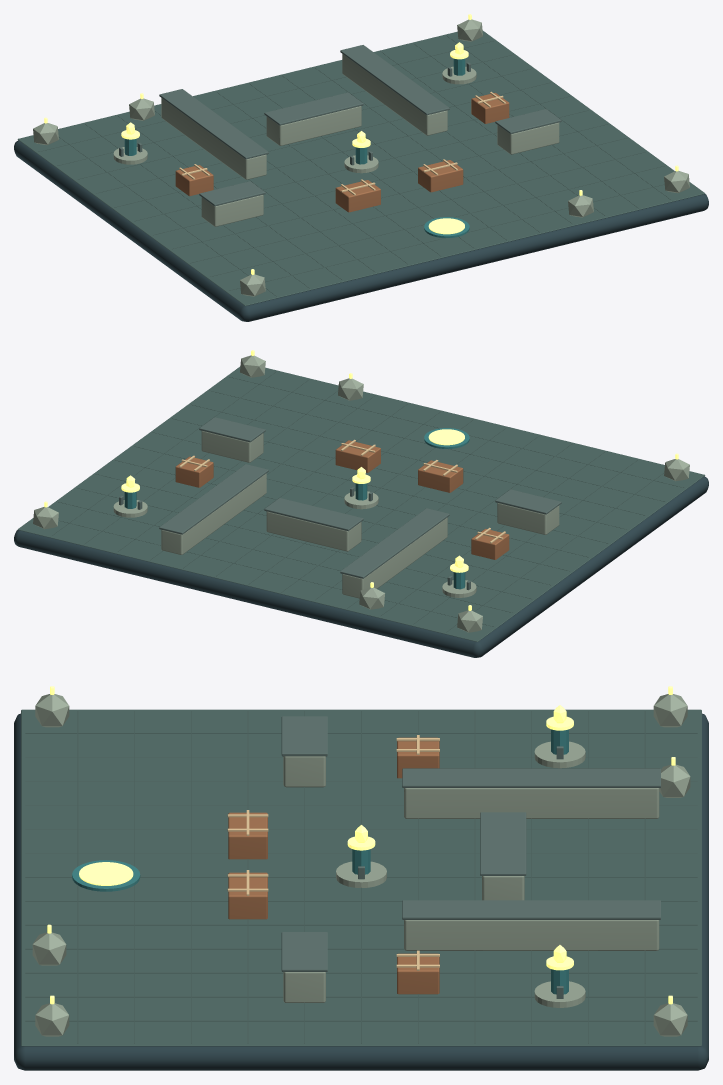
File: arena-quarry.glb
3 views of the same model, one above another, from view 1: azimuth 30°, elevation 25°; view 2: azimuth 150°, elevation 25°; view 3: azimuth 270°, elevation 25° (orthographic). The views are drawn at different scales.
Parts seen in each view (by area): view 1: Tactical floor, Terrain island, Part__Concrete quarry, Part__Railings.002, Part__Grid quarry, Crate body, Crate body.001, Crate body.002, Crate body.003, ExtractionGlow; view 2: Tactical floor, Terrain island, Part__Concrete quarry, Part__Railings.002, Part__Grid quarry, Crate body, Crate body.001, Crate body.003, Crate body.002, ExtractionGlow; view 3: Tactical floor, Part__Concrete quarry, Terrain island, Part__Railings.002, Part__Grid quarry, Crate body, Crate body.001, Crate body.003, Crate body.002, ExtractionGlow, Beacon base, Beacon base.001 (+2 smaller).
Part boxes in pixels (x1,y1,x2,y2): Tactical floor: (17,30,705,305); Terrain island: (14,140,708,321); Part__Concrete quarry: (33,19,689,296); Part__Railings.002: (159,45,561,206); Part__Grid quarry: (39,35,670,296); Crate body: (335,180,380,212); Crate body.001: (418,160,463,192); Crate body.002: (175,165,213,196); Crate body.003: (471,93,509,123); ExtractionGlow: (428,218,464,234); Tactical floor: (17,366,705,641); Terrain island: (14,476,708,657); Part__Concrete quarry: (33,355,689,632); Part__Railings.002: (159,417,561,578); Part__Grid quarry: (52,371,683,632); Crate body: (418,460,463,492); Crate body.001: (335,440,380,472); Crate body.003: (175,456,213,487); Crate body.002: (471,529,509,559); ExtractionGlow: (428,429,464,445); Tactical floor: (21,709,701,1046); Part__Concrete quarry: (32,694,690,1036); Terrain island: (14,713,708,1070); Part__Railings.002: (281,716,660,971); Part__Grid quarry: (25,711,697,1043); Crate body: (228,812,267,859); Crate body.001: (228,872,267,919); Crate body.003: (397,953,439,994); Crate body.002: (397,737,439,778); ExtractionGlow: (79,862,133,885); Beacon base: (534,741,585,768); Beacon base.001: (534,981,585,1007).
Size of the model in its own units: 28.5 by 3.1 by 24.5.
